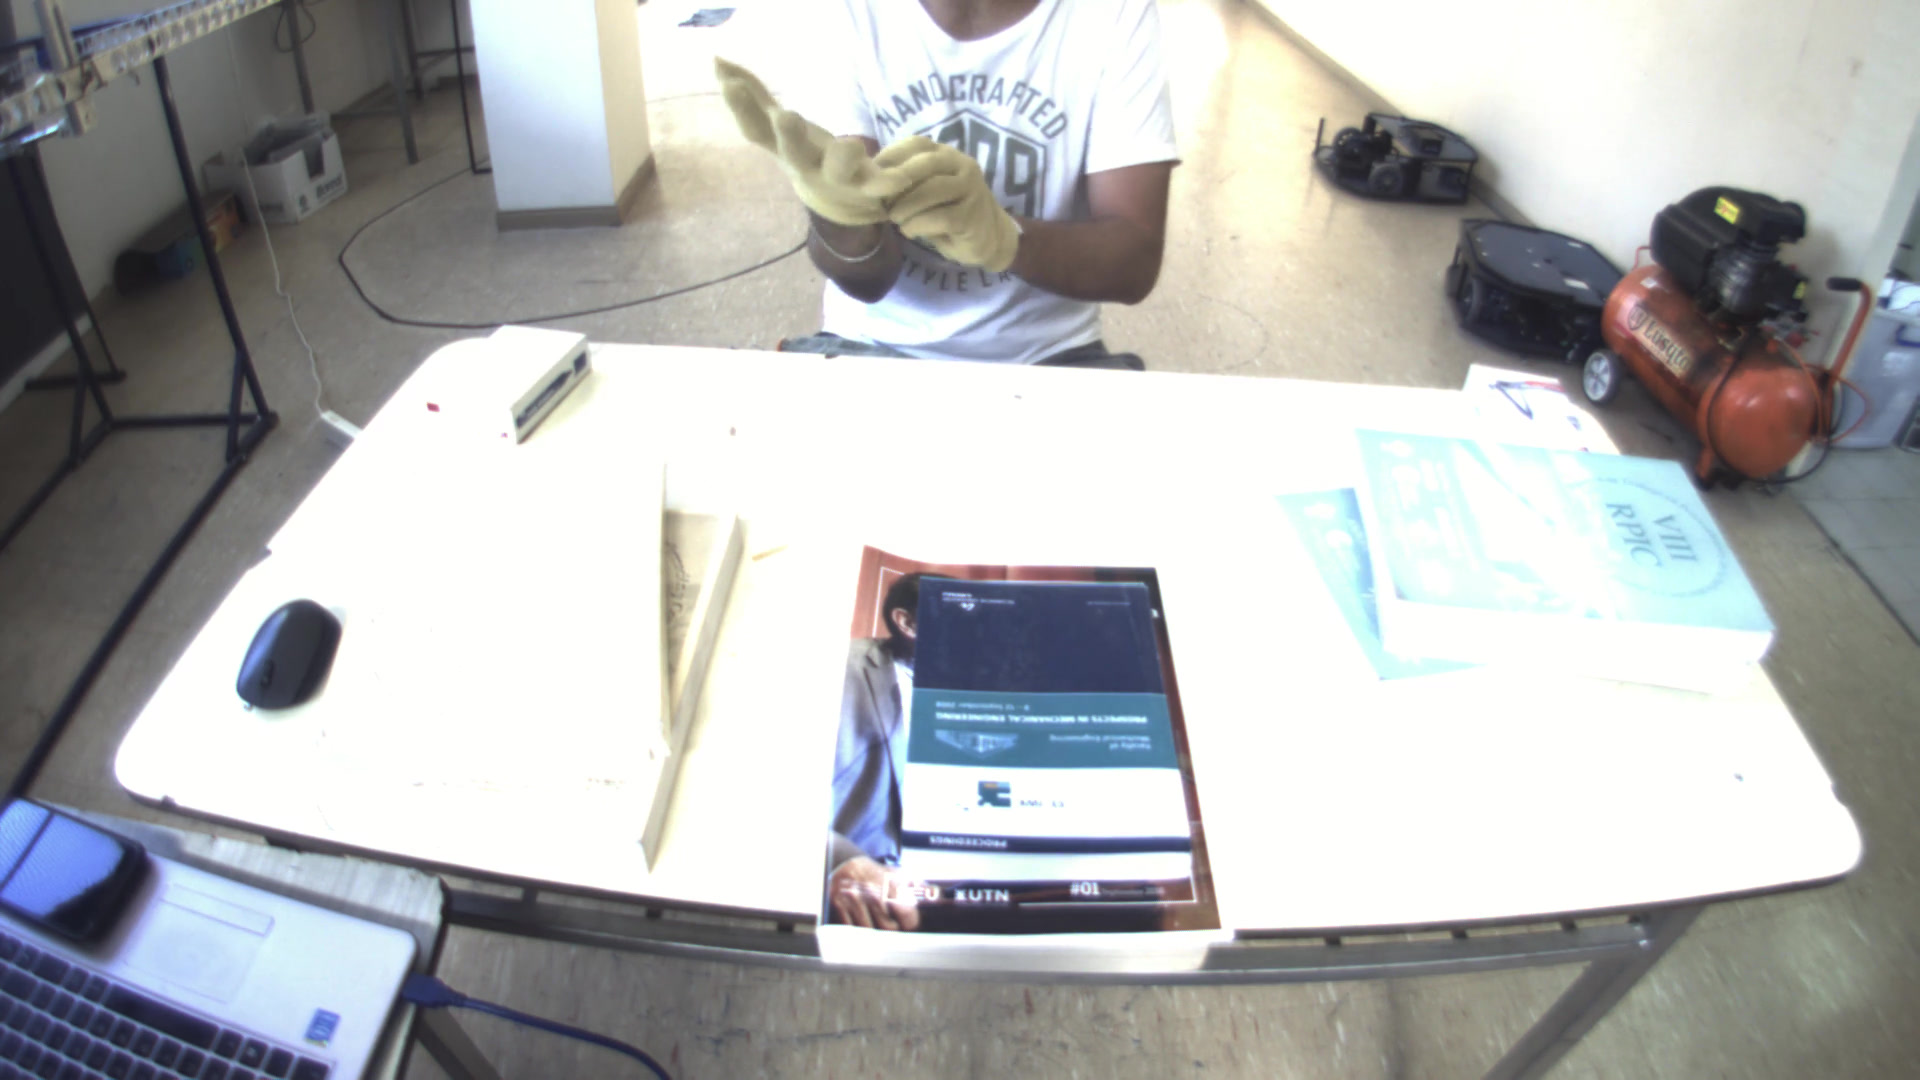hand: (728, 62, 918, 235), (865, 125, 1025, 276)
